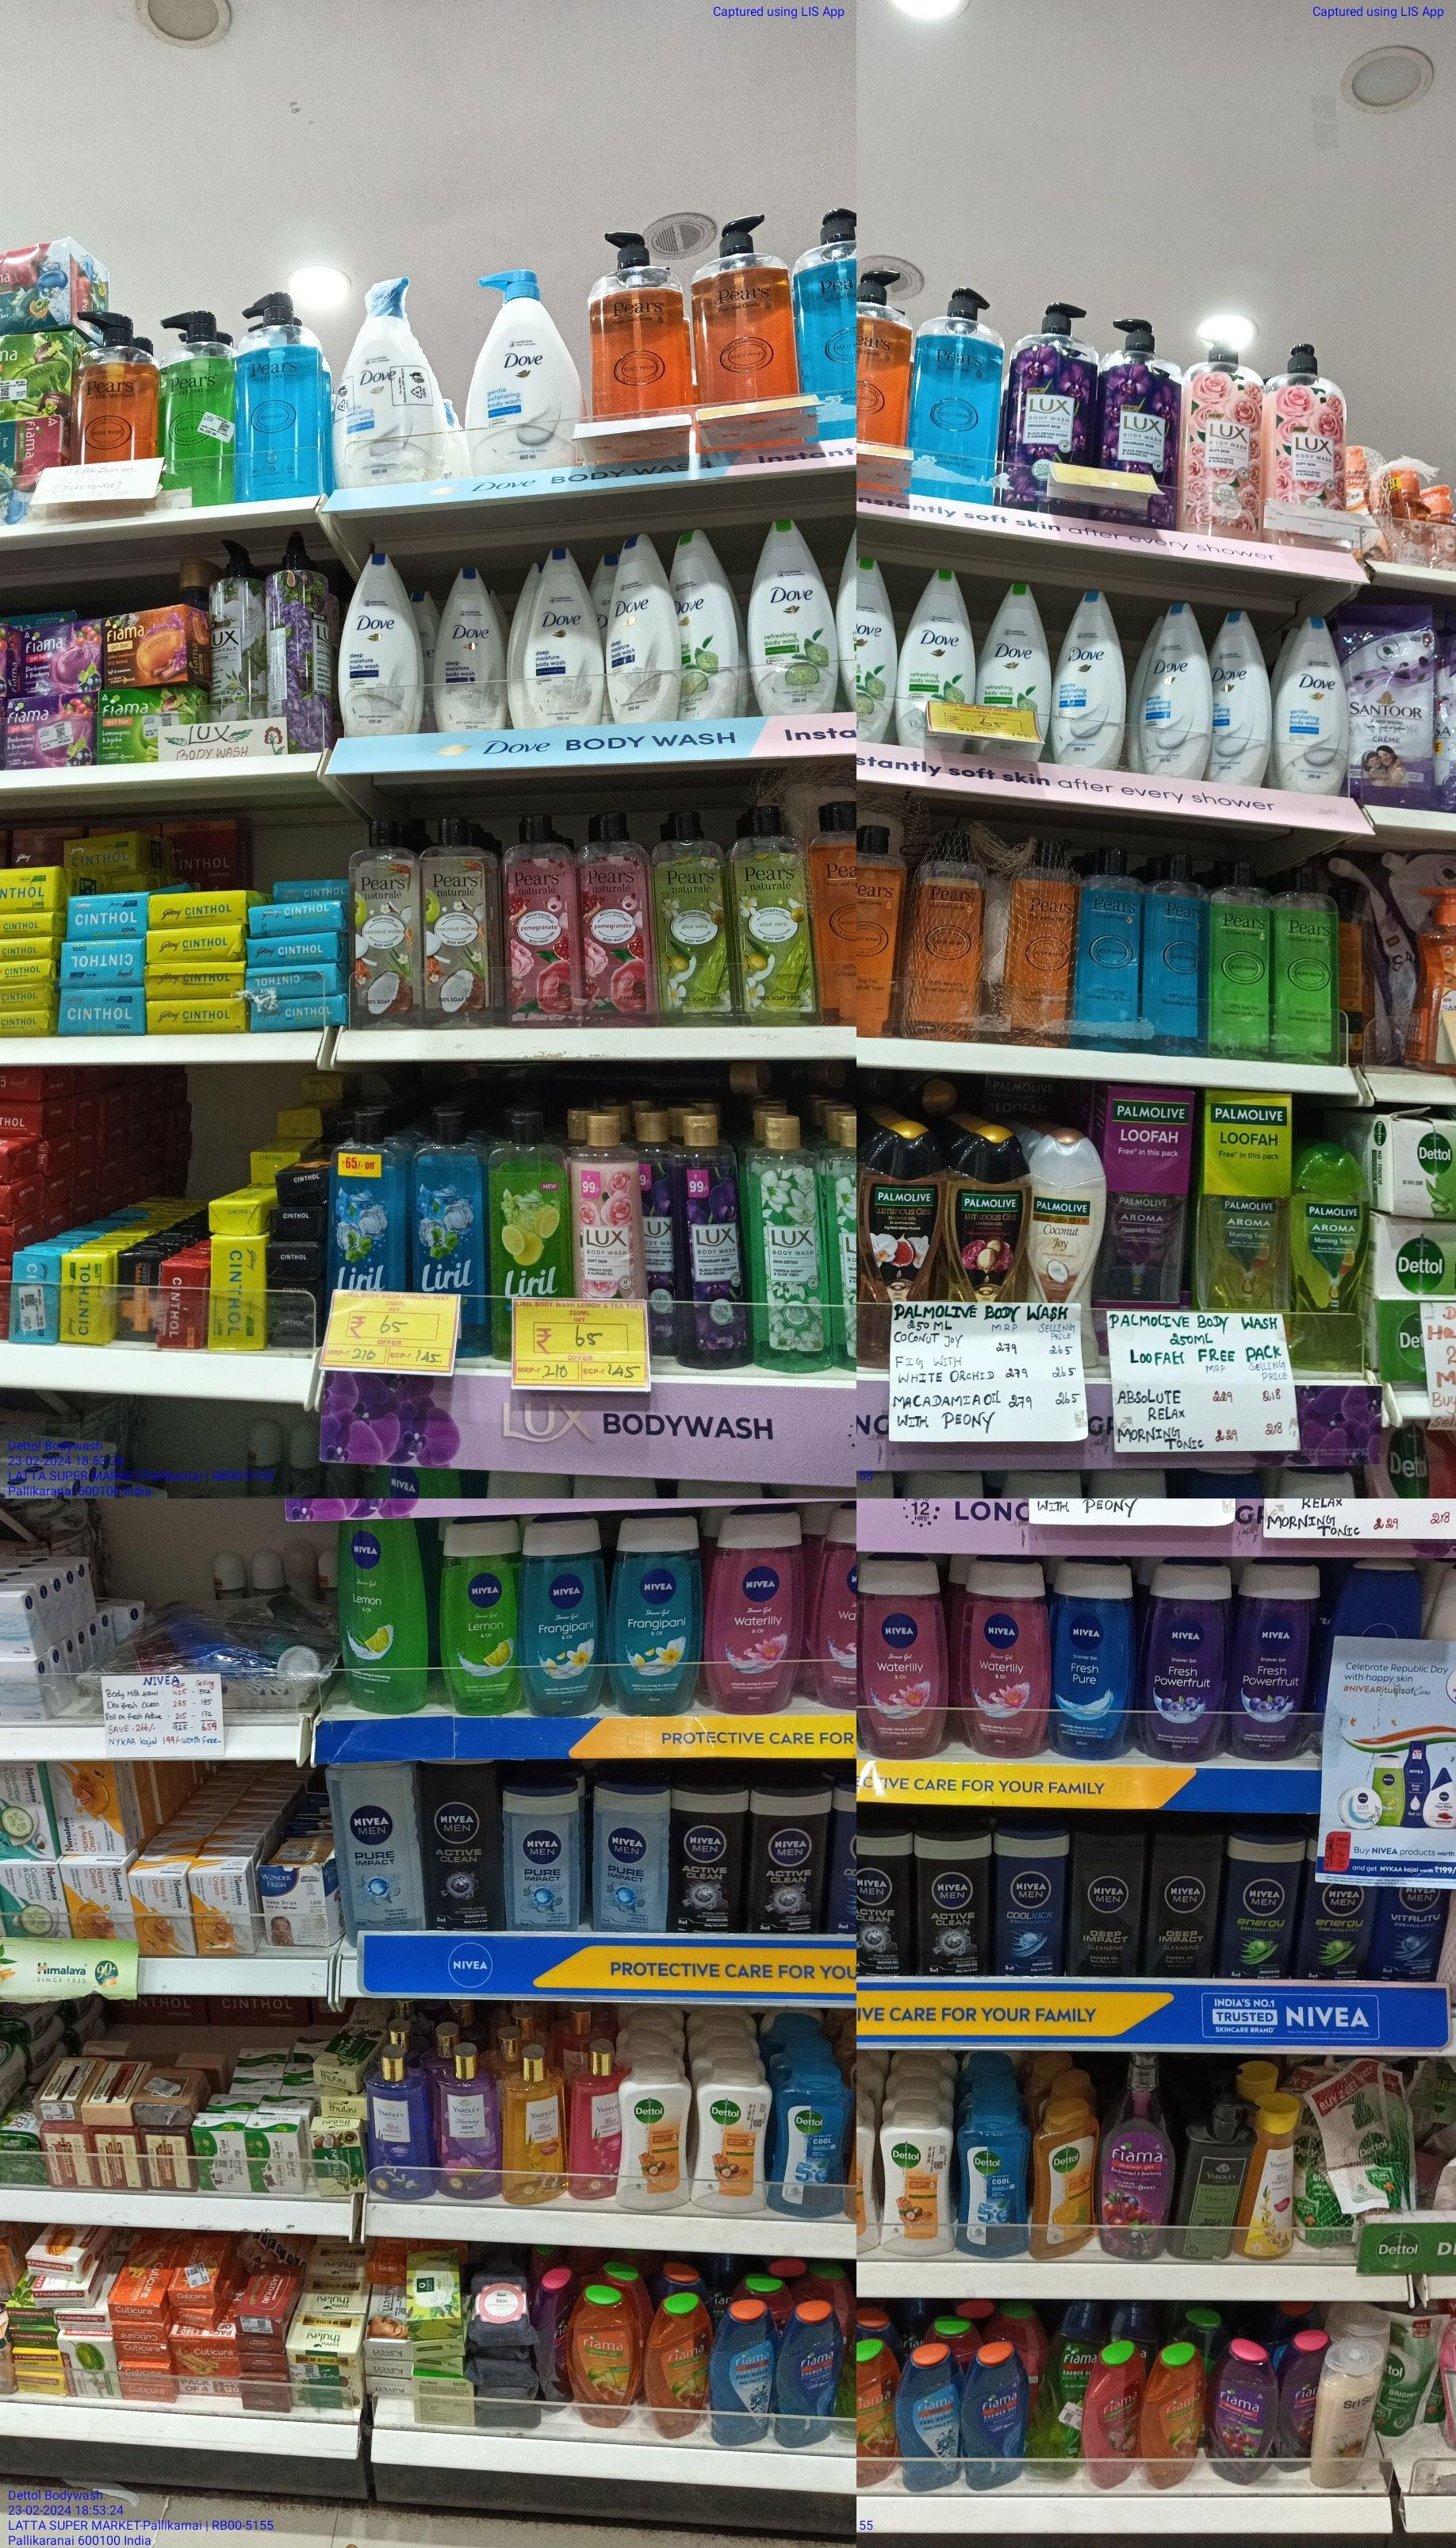Dettol_Bodywash_Cool: (773, 2067, 852, 2215), (959, 2107, 1029, 2257)
Dettol_Bodywash_Refresh: (1032, 2102, 1097, 2257)
Dettol_Nourish_Body_Wash_250ML: (878, 2105, 952, 2257), (618, 2061, 691, 2212), (695, 2067, 770, 2214)
Dove_Deep_Moisture_Body_Wash_250ML: (338, 553, 420, 735), (525, 551, 605, 724), (607, 534, 675, 724), (430, 565, 507, 730)
Dove_Gentle_Exfoliating_Body_Wash_250ML: (1055, 586, 1127, 768), (1274, 614, 1346, 793), (1141, 597, 1209, 777), (1213, 609, 1270, 782)
Dove_Refreshing_Body_Wash_250ML: (747, 520, 838, 714), (896, 563, 971, 749), (978, 581, 1052, 758)
Fiama_Shower_Gel_Peach_and_Avocado_250ML: (567, 2287, 637, 2429), (644, 2294, 712, 2439)
Liril_Cooling_Mint_Body_Wash_250ML: (408, 1115, 483, 1293), (331, 1113, 404, 1290)
Liril_Lime_and_Tea_Tree_Oil_Body_Wash_250ML: (485, 1118, 572, 1300)
Lux_Black_Orchid_Scent_and_Juniper_Oil_Body_Wash_245ML: (667, 1116, 747, 1367)
Lux_Body_Wash_Skin_Detox_Freesia_Scent_and_Alove_Vera_245ML: (747, 1120, 835, 1372)
Nivea_Shower_Gel_Frangipani_and_Oil_250ML: (611, 1519, 702, 1712), (523, 1517, 604, 1712)
Nivea_Shower_Gel_Fresh_Powerfruit_250ML: (1143, 1564, 1230, 1764), (1234, 1561, 1321, 1760)
Nivea_Shower_Gel_Lemon_and_Oil_250ML: (338, 1519, 430, 1712), (439, 1521, 520, 1712)
Nivea_Shower_Gel_Waterlily_and_Oil_250ML: (709, 1521, 805, 1712), (857, 1563, 947, 1757), (962, 1563, 1048, 1755)
Palmolive_Aroma_Morning_Tonic_Shower_Gel_250ML: (1290, 1150, 1370, 1375)
Palmolive_Coconut_Joy_Exfoliating_Body_Wash_250ML: (1029, 1136, 1106, 1307)
Palmolive_Luminous_Oils_Invigorating_Macadamia_Oil_With_Peony_250ML: (947, 1129, 1025, 1304)
Palmolive_Luminous_Oils_With_White_Orchid_Shower_Gel_250ML: (861, 1127, 947, 1302)
Pears_Naturale_Aloe_Vera_Body_Wash_250ML: (731, 808, 821, 1025), (653, 812, 731, 1027)
Pears_Pure_Glycerin_and_Lemon_Flower_Extracts_Body_Wash_250ML: (1274, 865, 1339, 1064), (1209, 857, 1270, 1057)
Pears_Pure_Glycerin_and_Mint_Extracts_Body_Wash_250ML: (1069, 847, 1141, 1043), (1144, 849, 1206, 1053)
